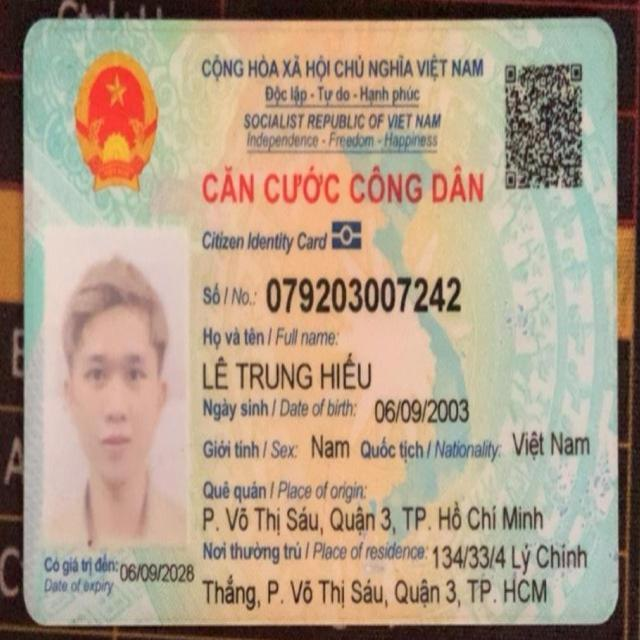current_place: (202, 571, 550, 614), (431, 537, 590, 575)
dob: (373, 396, 473, 424)
expire_date: (118, 557, 196, 587)
gender: (311, 430, 353, 465)
id: (265, 273, 467, 315)
name: (200, 351, 376, 394)
nationality: (509, 426, 593, 462)
origin_place: (199, 499, 546, 538)
qr: (502, 58, 586, 191)
